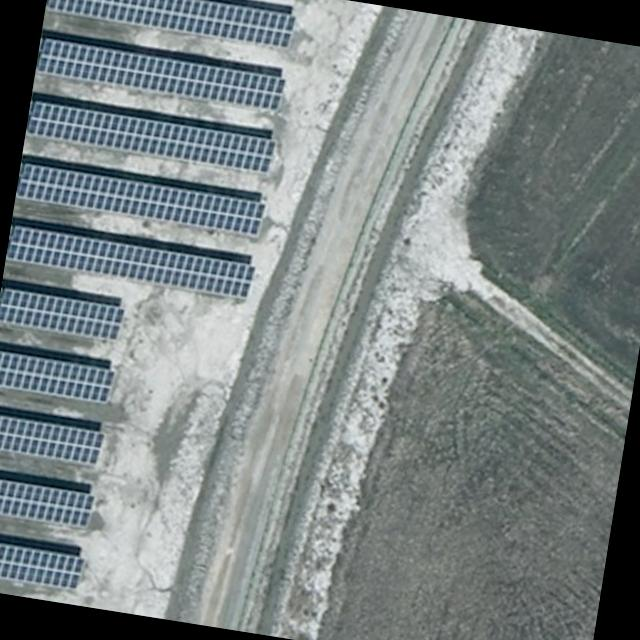solar: (15, 161, 267, 238), (5, 223, 256, 300), (25, 100, 277, 176), (35, 37, 286, 113), (45, 0, 297, 50), (0, 285, 127, 343), (0, 348, 117, 408), (0, 409, 107, 469), (0, 473, 97, 533)
